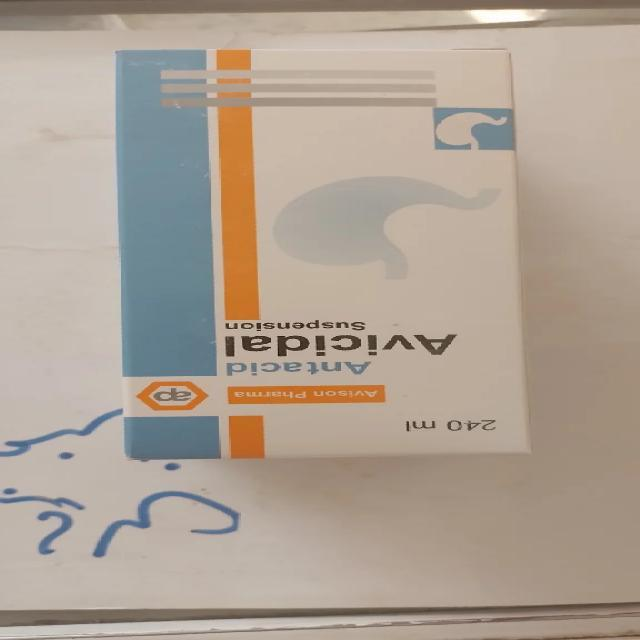drug-name: (222, 328, 464, 362)
